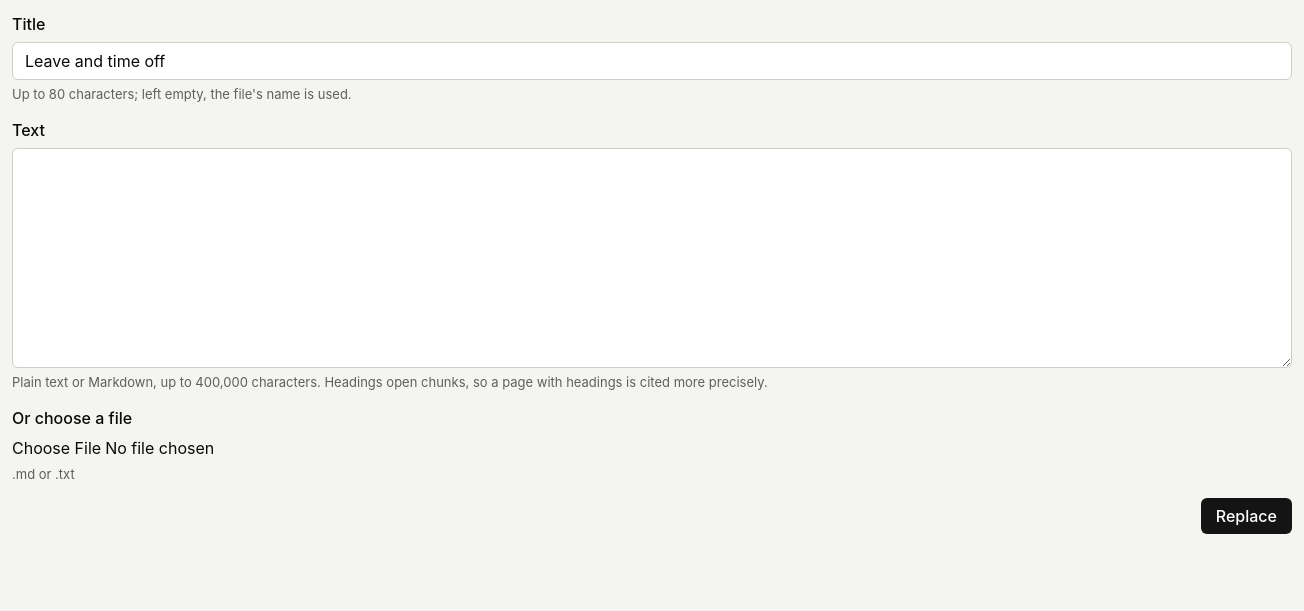
Scenario: the document form › replacing starts from the current title and says what it does
The image size is (1304, 611).
Expected: the field labelled "Title" holds "Leave and time off", [12,42,1292,80]
Step 1. Type "New text." into the text box labelled "Text" → (652, 258), box [12,148,1292,368]
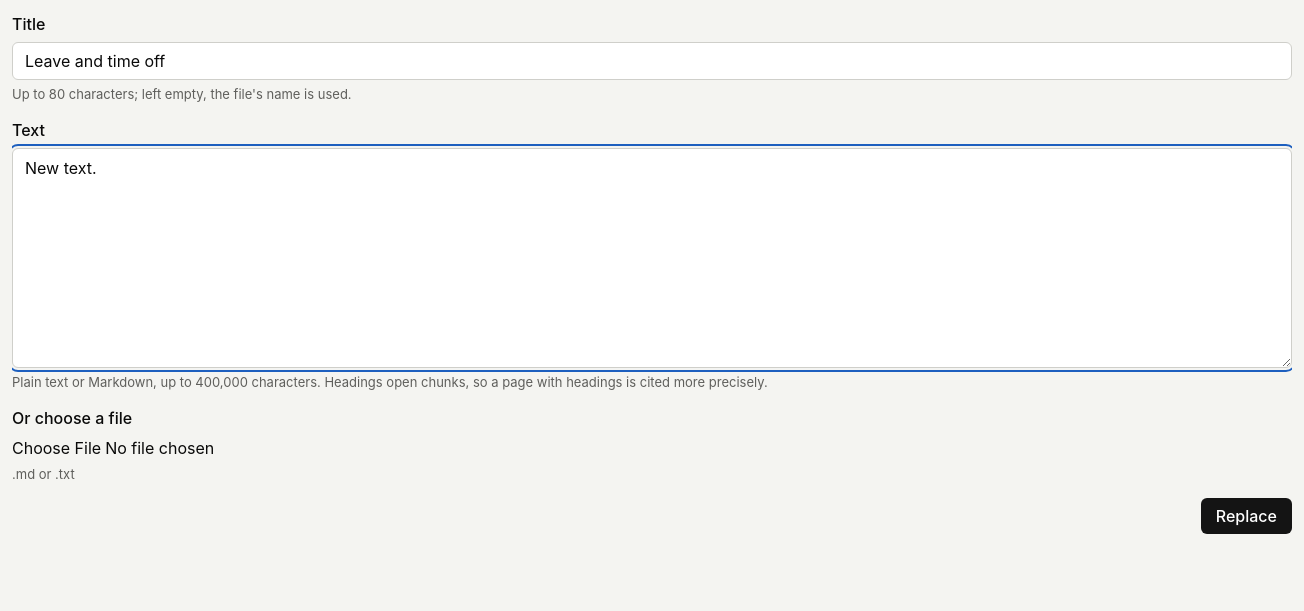
Step 2. Click the button "Replace" → (1246, 516), box [1201,498,1292,534]
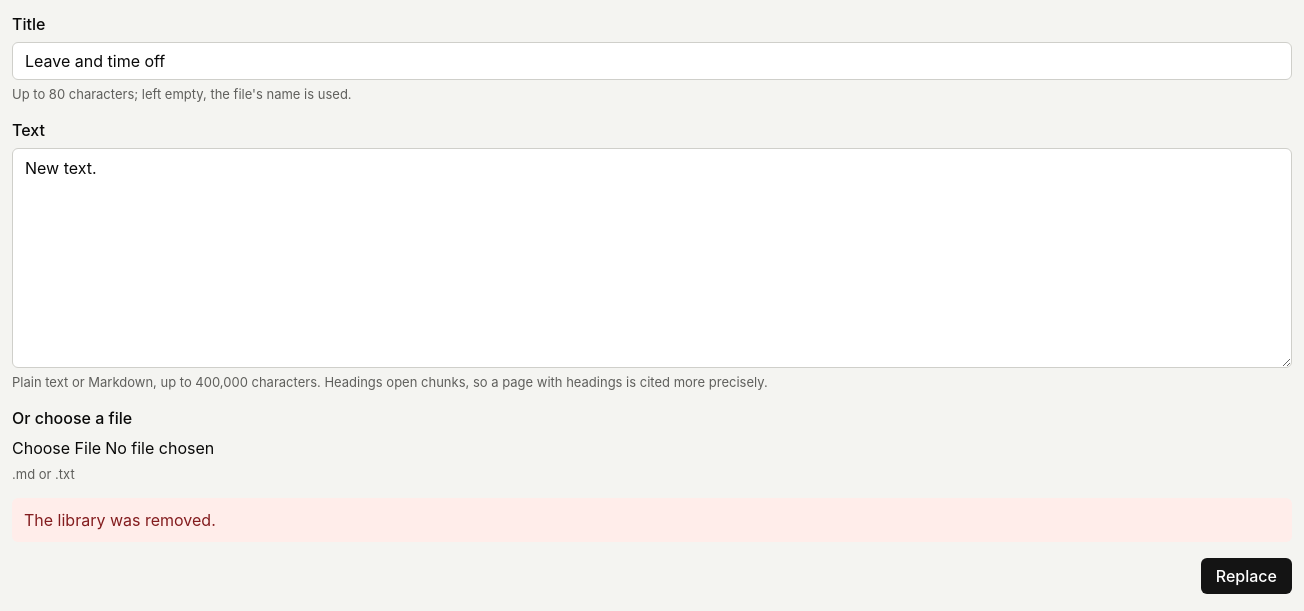
Now the message reads "The library was removed.", box [24,510,216,530]
